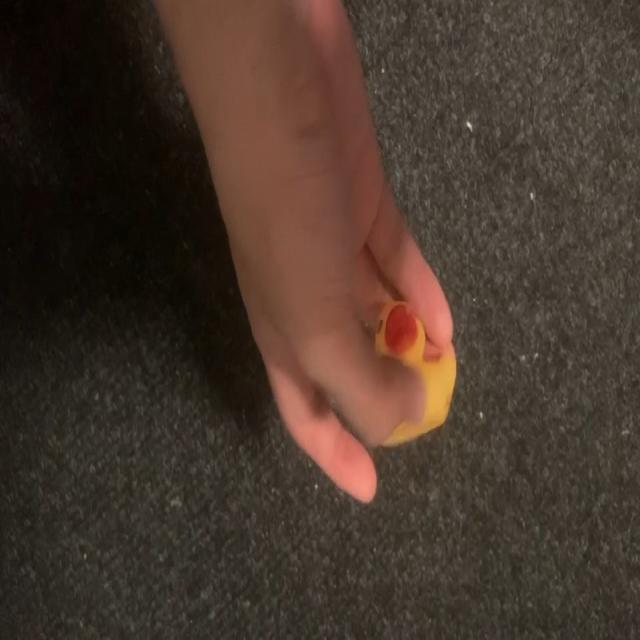rubber-duck: (374, 300, 454, 444)
